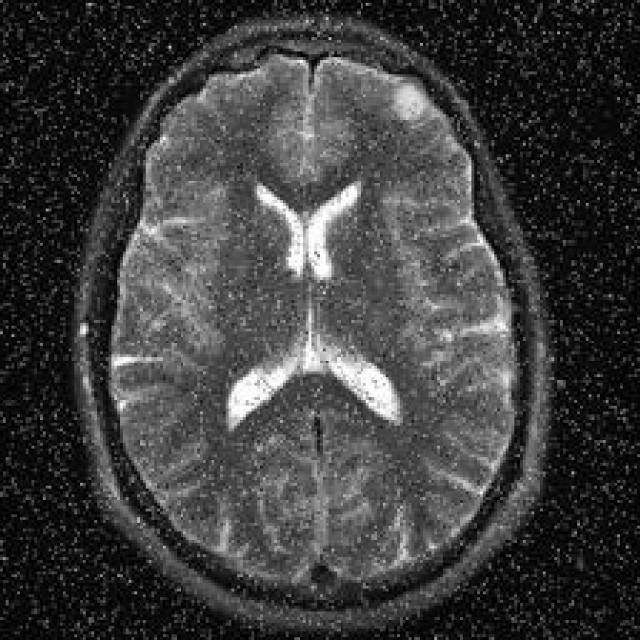no_tumor: (62, 6, 570, 640)
